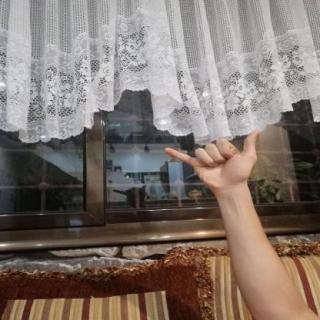YA: (156, 125, 266, 197)
